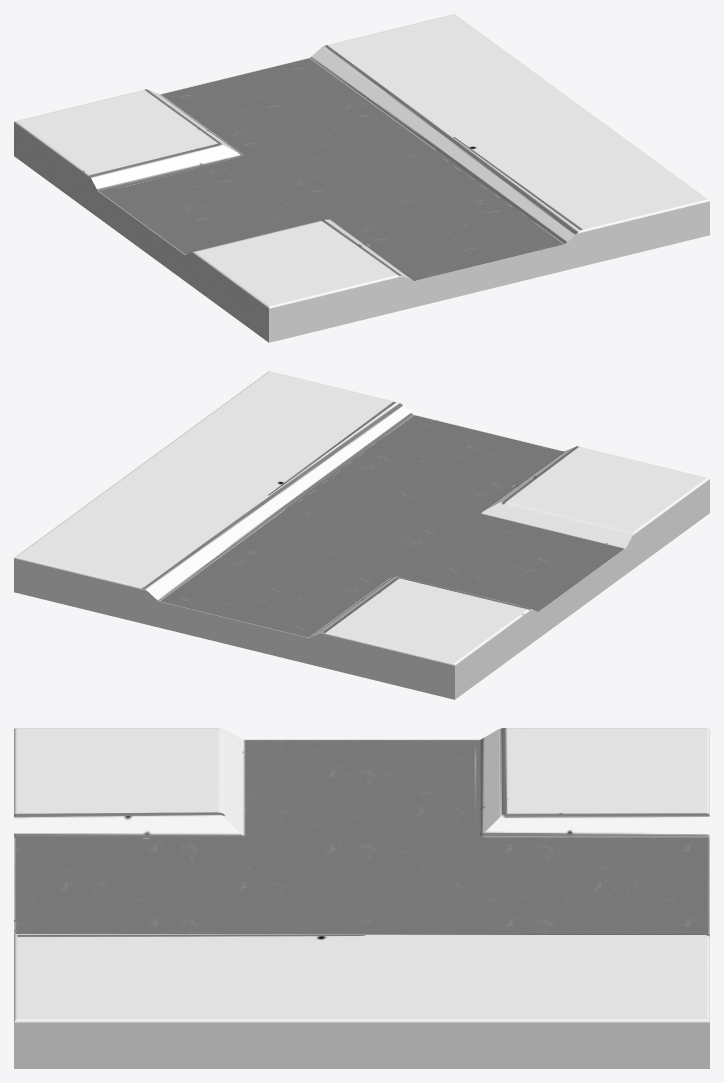
File: crossroad3.fbx
3 views of the same model, one above another, from view 1: azimuth 30°, elevation 25°; view 2: azimuth 150°, elevation 25°; view 3: azimuth 270°, elevation 25° (orthographic). The views are drawn at different scales.
Visible parts, largest first — view 1: Cube.002; view 2: Cube.002; view 3: Cube.002.
Part boxes in pixels (left/top/right/bottom): Cube.002: left=14, top=14, right=709, bottom=342; Cube.002: left=14, top=371, right=709, bottom=699; Cube.002: left=14, top=728, right=709, bottom=1068.
Size of the model in its own units: 195 by 15 by 196.
